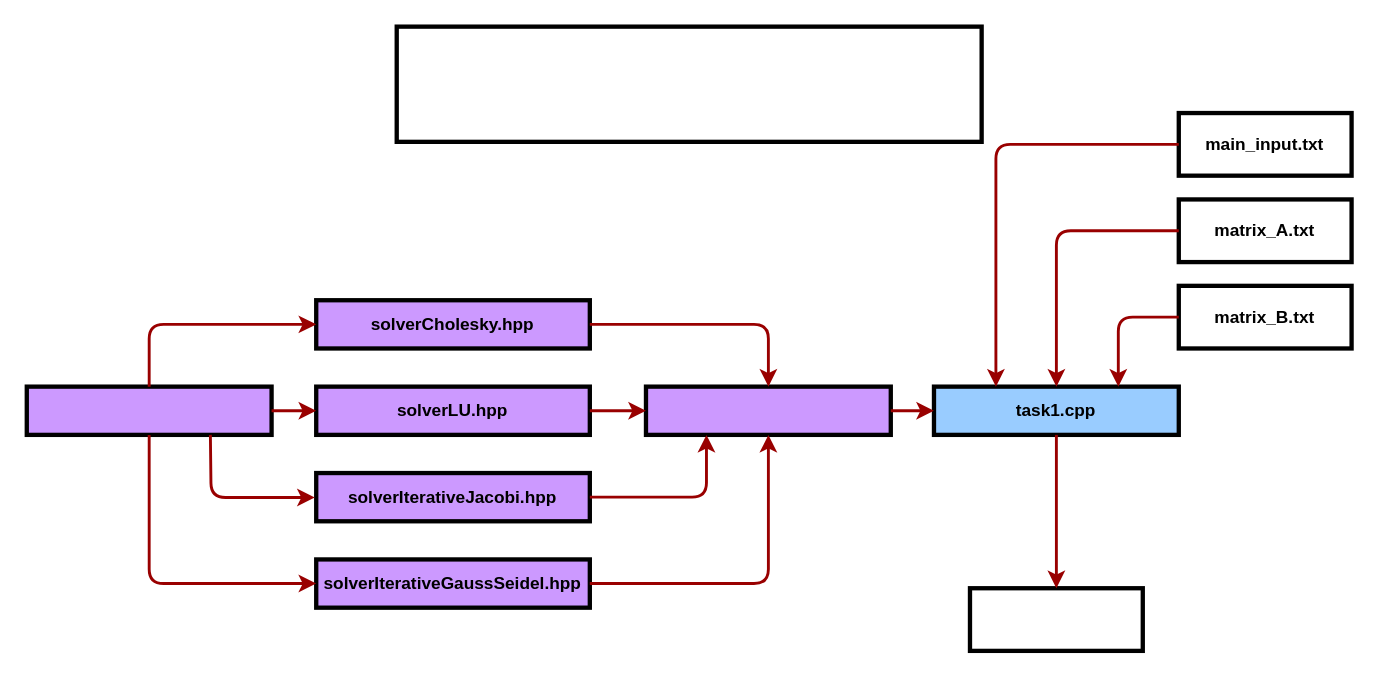
The diagram is 1378 pixels wide and 678 high, and some of its shapes have lost their labels. The centre of each missing label's shape, as x and y in pixels:
Arquitetura Task1: (688,83)
main_output.txt: (1055,618)
routines.hpp: (767,410)
subRoutines.hpp: (148,410)
